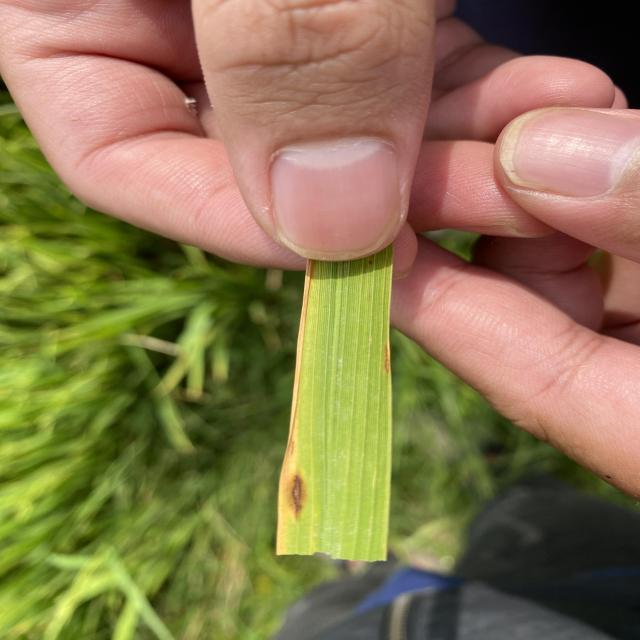Dom nau: (289, 471, 306, 522), (385, 344, 391, 376)
